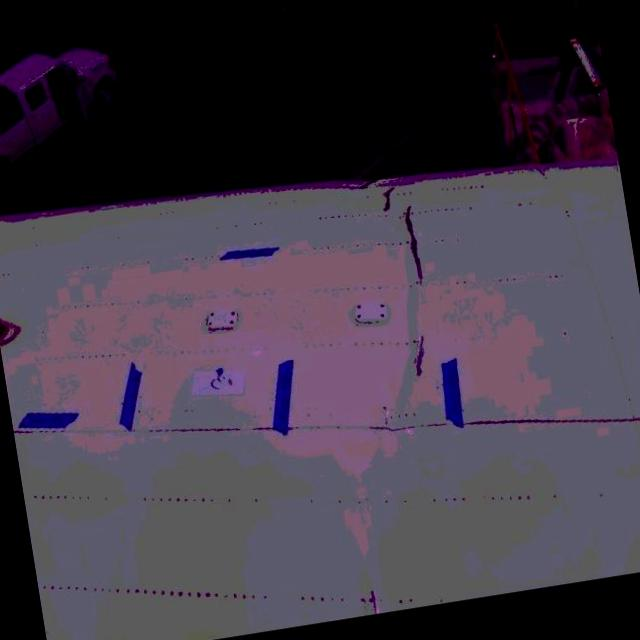crack: (398, 200, 429, 286), (408, 331, 438, 382), (376, 182, 401, 214)
